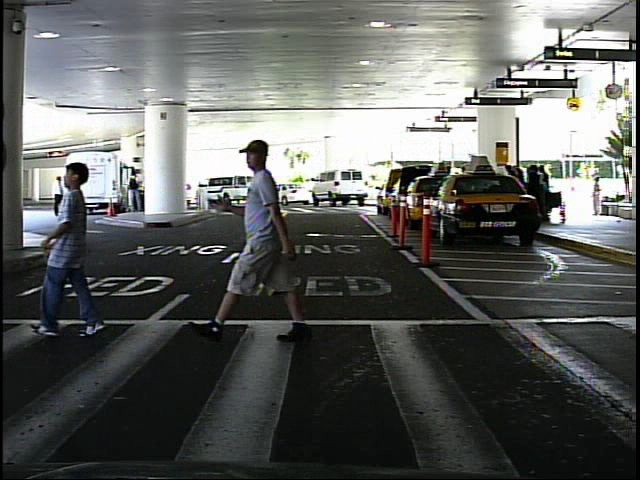person: (201, 129, 332, 344), (31, 156, 117, 345), (50, 171, 68, 221), (588, 172, 606, 217)
